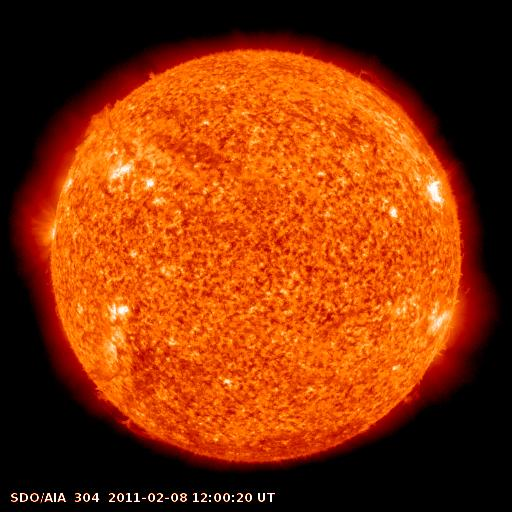prominence: (86, 382, 159, 444), (70, 91, 131, 144), (350, 61, 400, 102), (396, 374, 431, 414)
